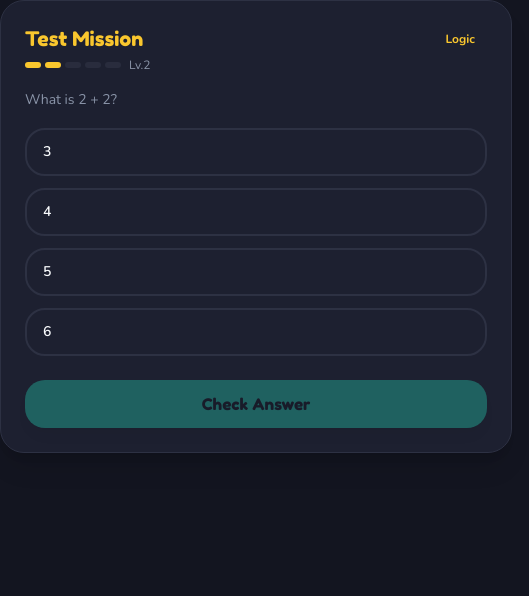
Test: MissionCard › shows hint after wrong answer and retry
// First wrong attempt
Click the button "3".
click(47, 151)  # box [25, 128, 487, 176]
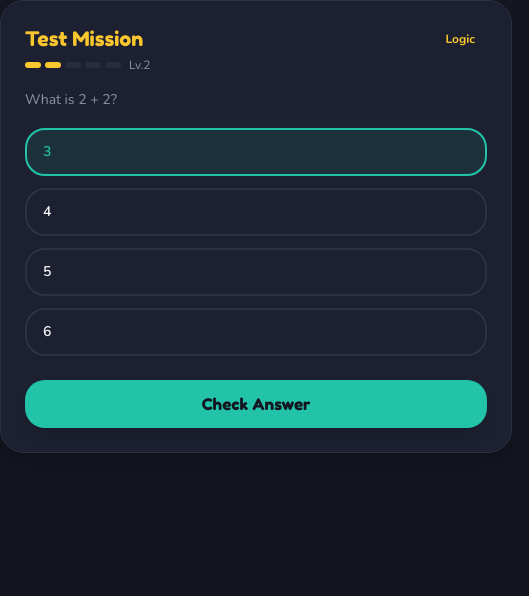
Click the button "Check Answer".
click(256, 404)  # box [25, 380, 487, 428]
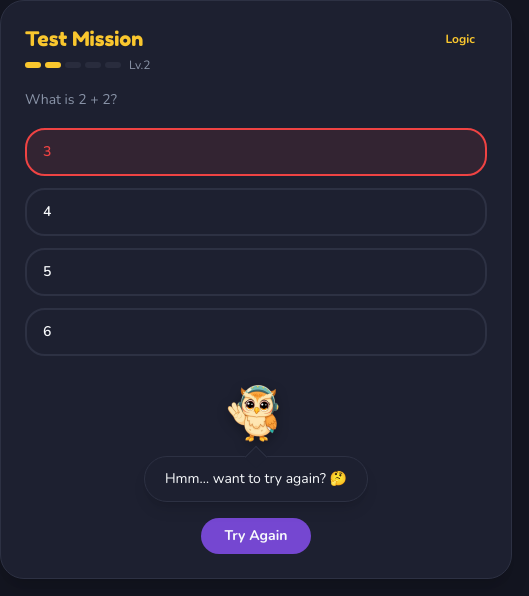
Click the button "Try Again".
click(256, 536)  # box [200, 518, 311, 554]
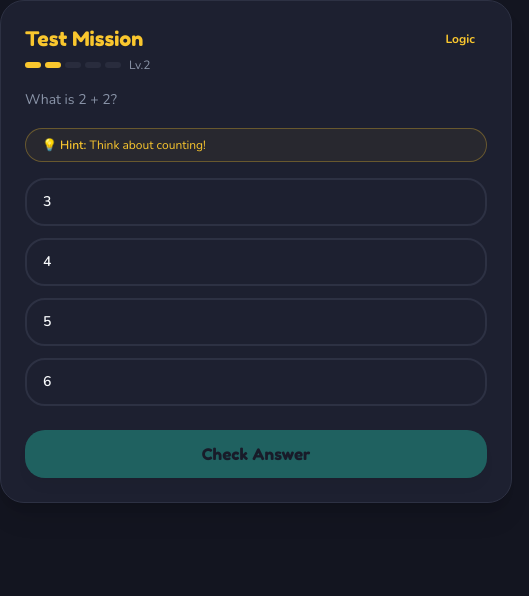
expect the text "💡 Hint: Think about counting!" is shown: met, box [42, 137, 206, 153]
